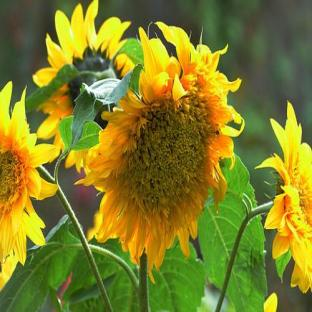sunflower: (76, 22, 246, 312)
